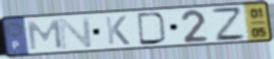2: (180, 8, 212, 45)
D: (135, 12, 169, 47)
K: (103, 15, 132, 46)
M: (26, 18, 64, 52)
N: (56, 15, 95, 52)
Z: (209, 6, 249, 43)
